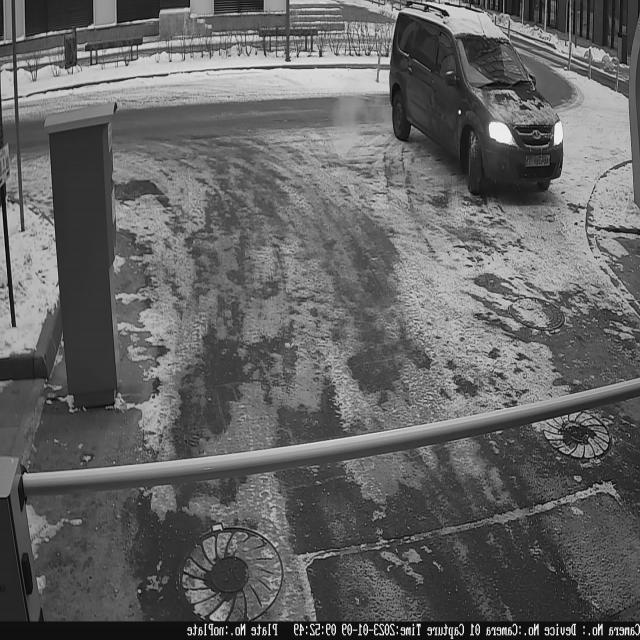car-plate-numbers: (524, 148, 555, 174)
